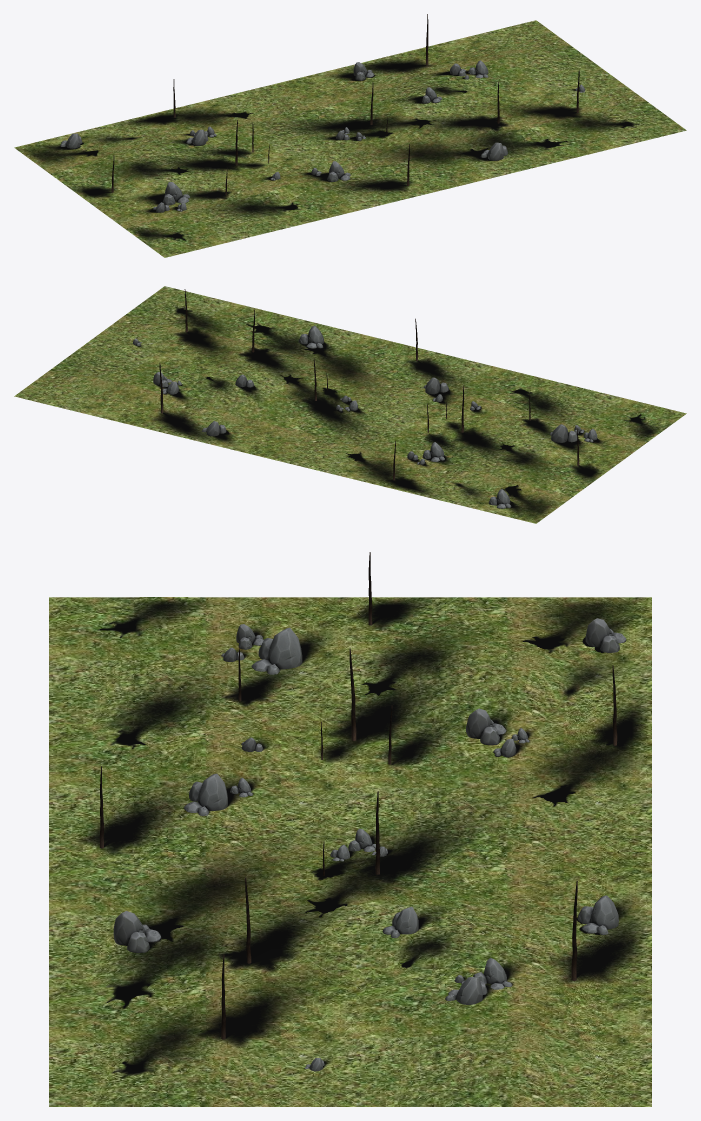
Rendered from world_3.glb.
The picture shows the model from 3 angles, top to bottom: view 1: azimuth 30°, elevation 25°; view 2: azimuth 150°, elevation 25°; view 3: azimuth 270°, elevation 25°; orthographic projection. The views are drawn at different scales.
Visible parts, largest first — view 1: Ground, Rock9; view 2: Ground, Rock19; view 3: Ground, Rock9, Rock19, Rock4, Rock16, Rock1, Rock18.
Part boxes in pixels (box(x1,y1,x2,y2)): Ground: box(14, 20, 686, 257); Rock9: box(162, 182, 189, 205); Ground: box(14, 286, 686, 523); Rock19: box(298, 325, 323, 348); Ground: box(49, 597, 651, 1106); Rock9: box(251, 627, 302, 674); Rock19: box(113, 911, 161, 952); Rock4: box(184, 773, 227, 815); Rock16: box(577, 895, 618, 934); Rock1: box(466, 708, 506, 745); Rock18: box(585, 618, 626, 652).
Size of what is drawn, in the model's own units: 100 by 9.67 by 50.
Materials: 3 (3 with a texture image).
